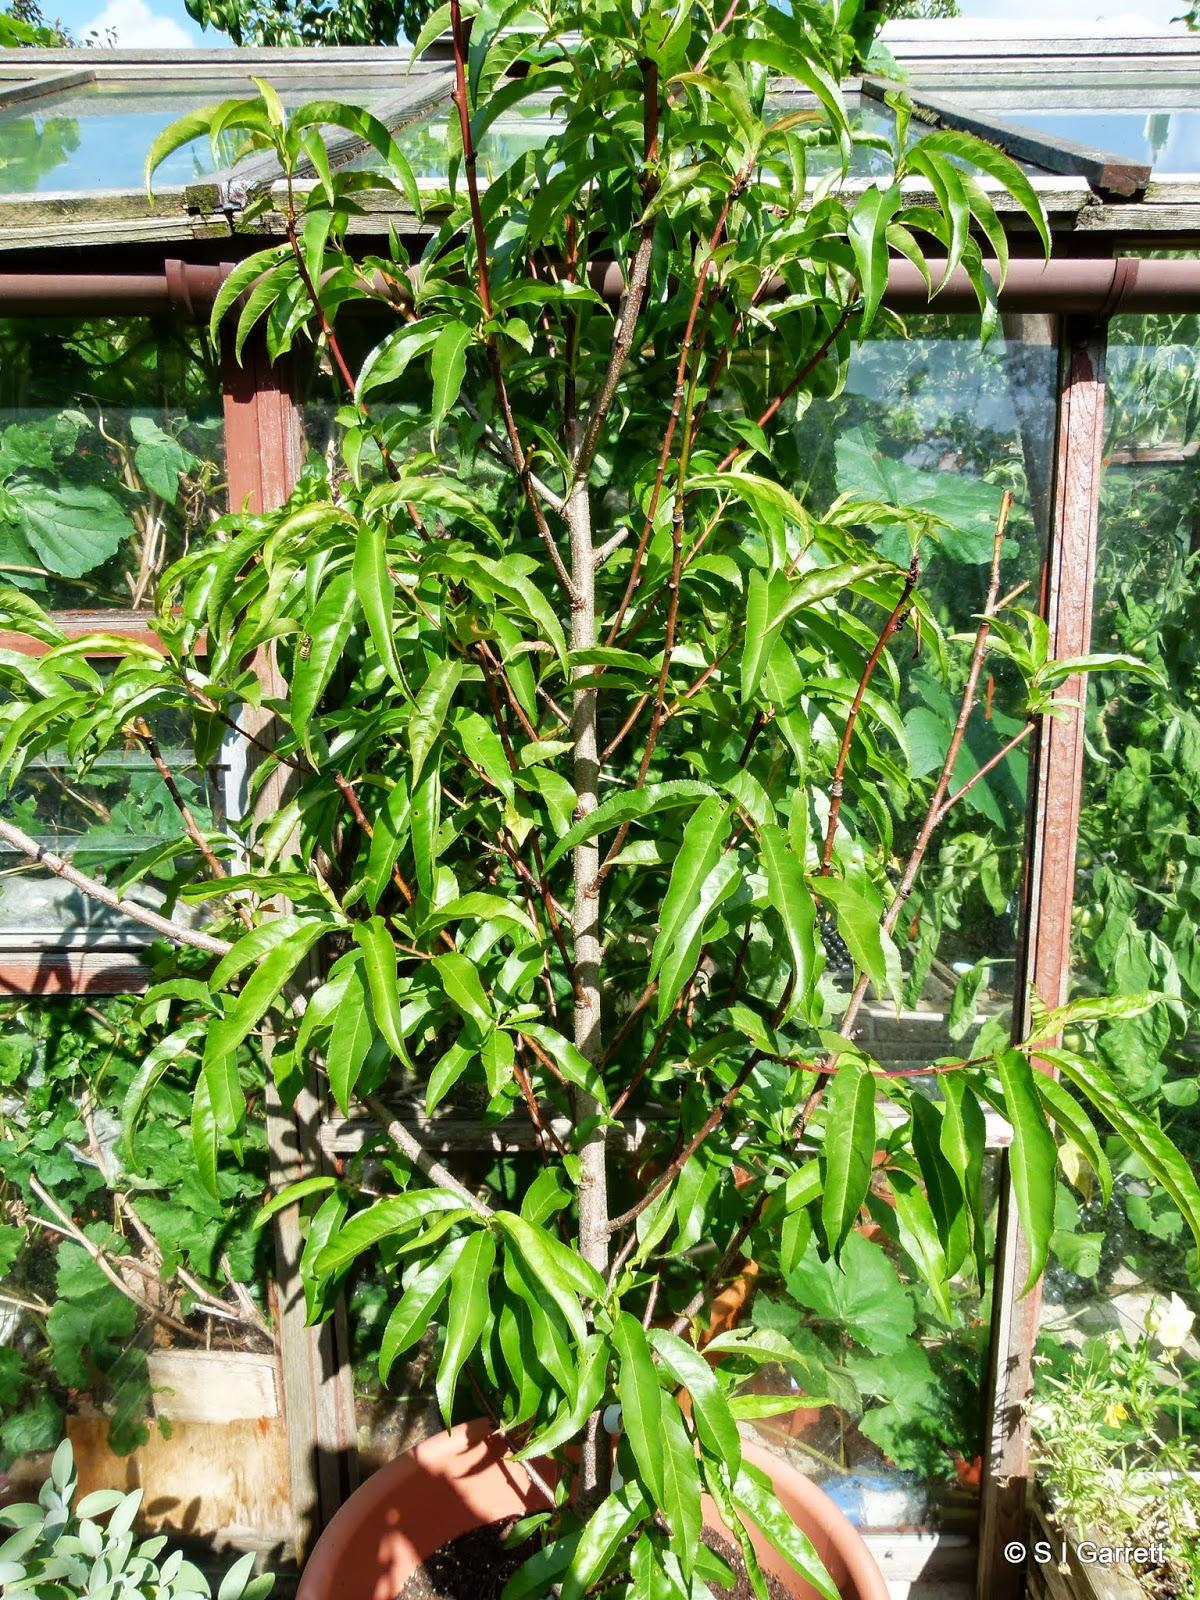Peach leaf: (301, 1184, 483, 1313), (978, 1063, 1074, 1301), (643, 794, 737, 1022), (603, 1313, 676, 1545), (217, 925, 337, 1065), (429, 1212, 504, 1431), (286, 569, 361, 774), (809, 1061, 871, 1281), (355, 917, 432, 1076), (361, 530, 415, 708), (843, 181, 901, 346), (768, 826, 816, 1020), (429, 323, 476, 469), (747, 564, 788, 723)
